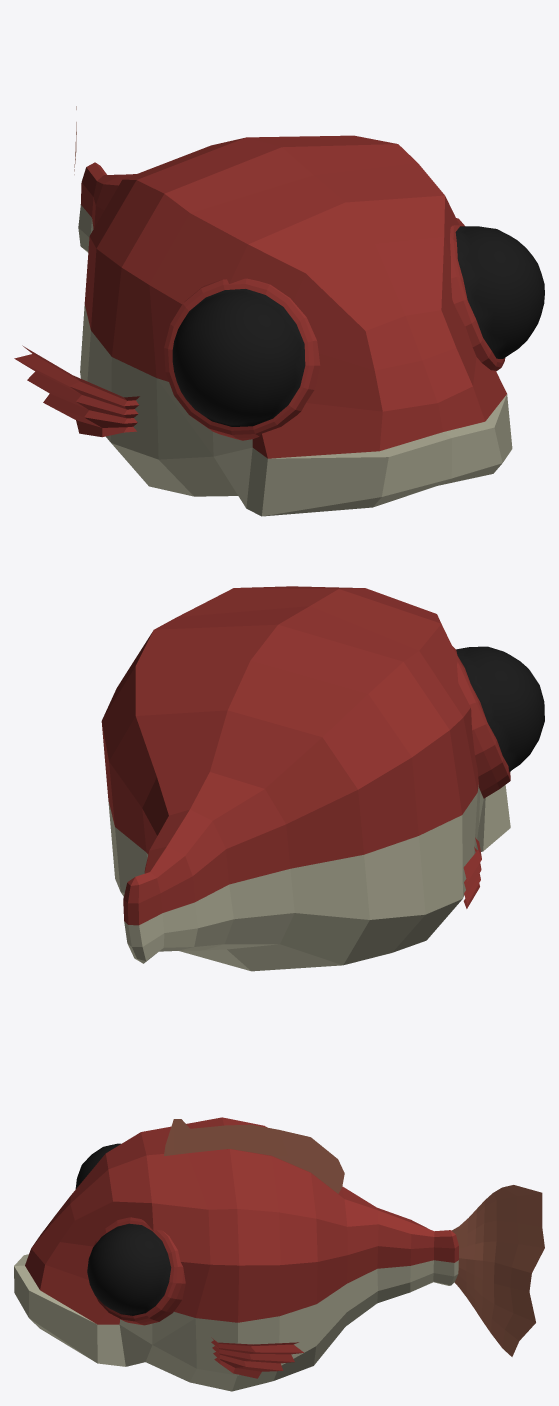
Rendered from RedSnapper.glb.
3 renders of one model, top to bottom at view 1: azimuth 30°, elevation 25°; view 2: azimuth 150°, elevation 25°; view 3: azimuth 270°, elevation 25°, orthographic. The views are drawn at different scales.
Visible parts, largest first — view 1: RedSnapper_Cube.101; view 2: RedSnapper_Cube.101; view 3: RedSnapper_Cube.101.
Boxes of the visible parts, x1,y1,x2,y2 form: RedSnapper_Cube.101: (14,106,544,516); RedSnapper_Cube.101: (101,586,544,971); RedSnapper_Cube.101: (14,1117,544,1391).
Bounding box in the file's own units: 3.16 × 2.69 × 5.18.
